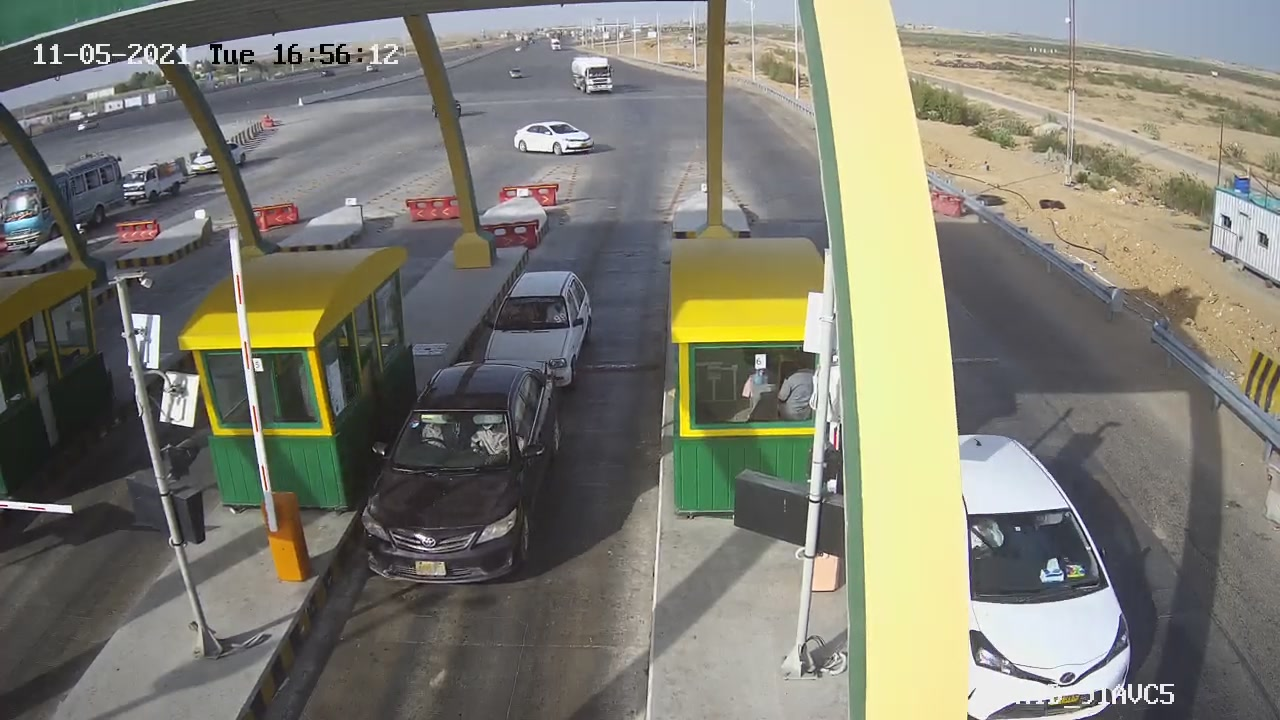F1: (341, 346, 584, 611), (471, 253, 613, 410)
